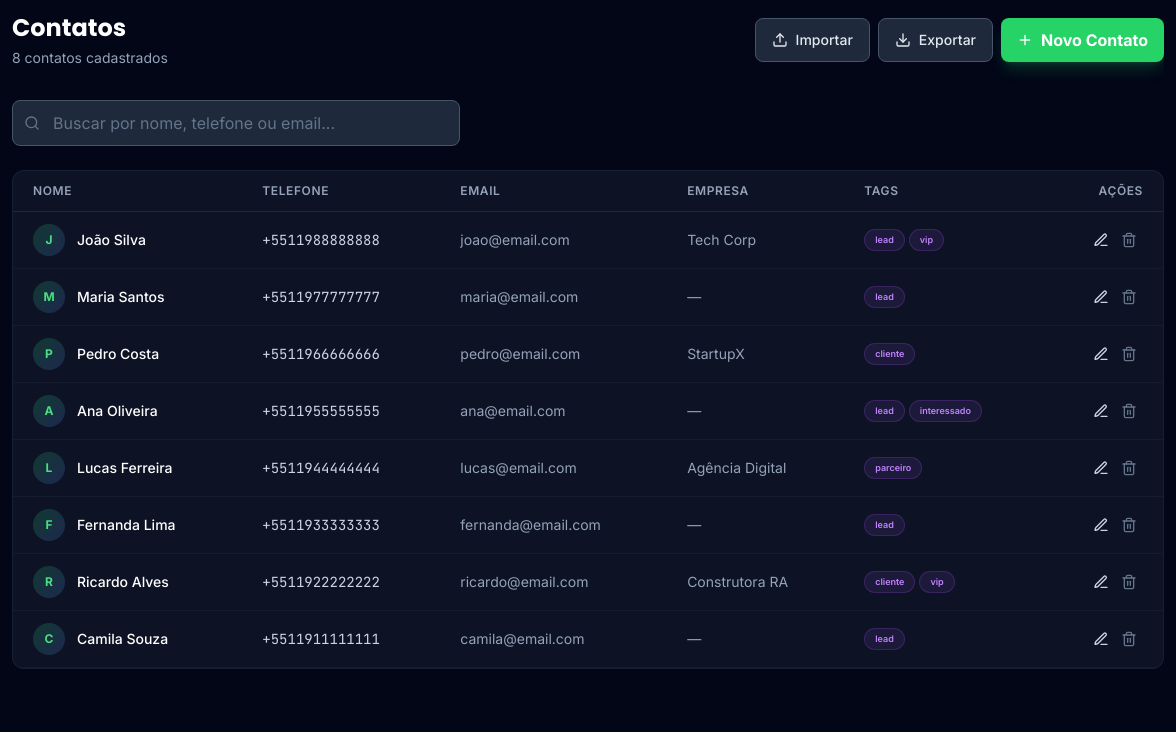
ContactsPage › should show empty state when no contacts match search
This screenshot has width=1176, height=732.
Expected: the text "João Silva" is shown, [77,230,146,250]
Type "ZZZ_NOT_FOUND" into the field with placeholder "Buscar por nome, telefone ou email...". click: (236, 123)
box: [12,100,460,146]
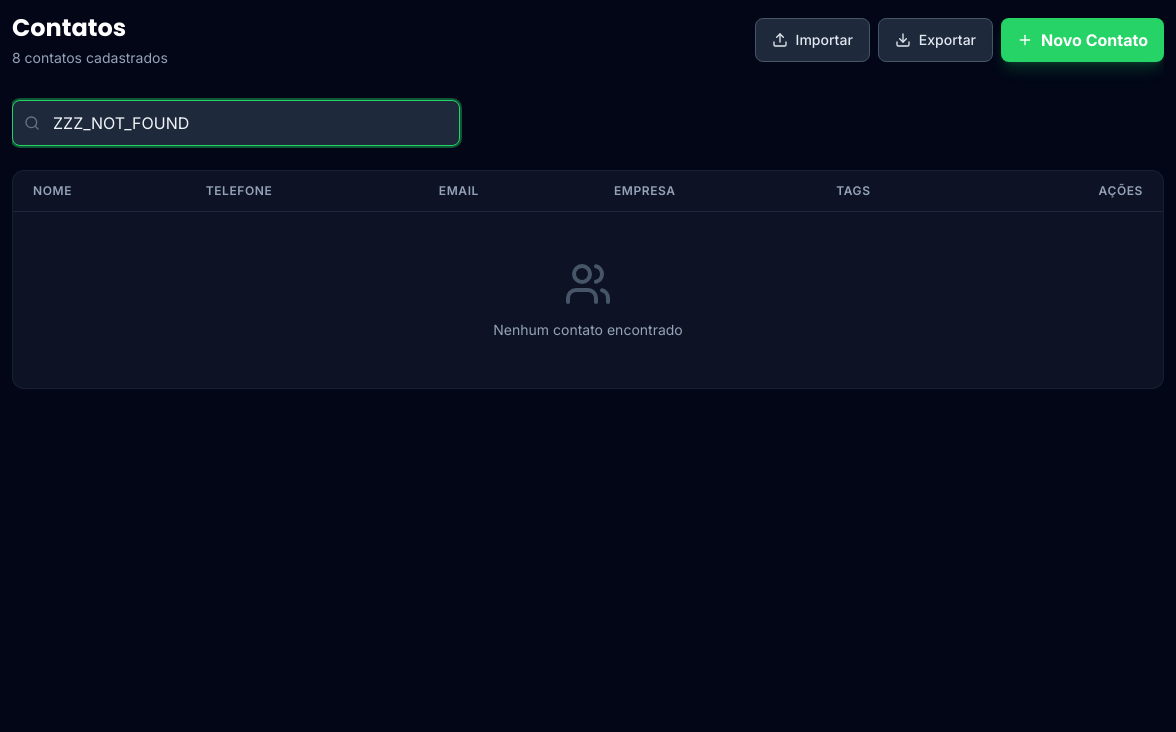
Expected: the text "João Silva" is gone
Expected: the text "Nenhum contato encontrado" is shown, [493,321,683,338]
